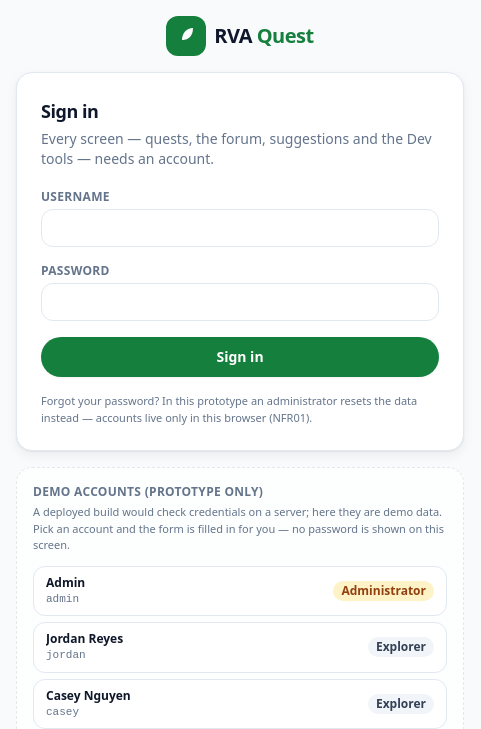
Test: LoginPage — the sign-in gate › refuses an empty form without touching the session
This screenshot has width=481, height=729.
Click the button "Sign in".
click(240, 357)  # box [41,337,439,377]
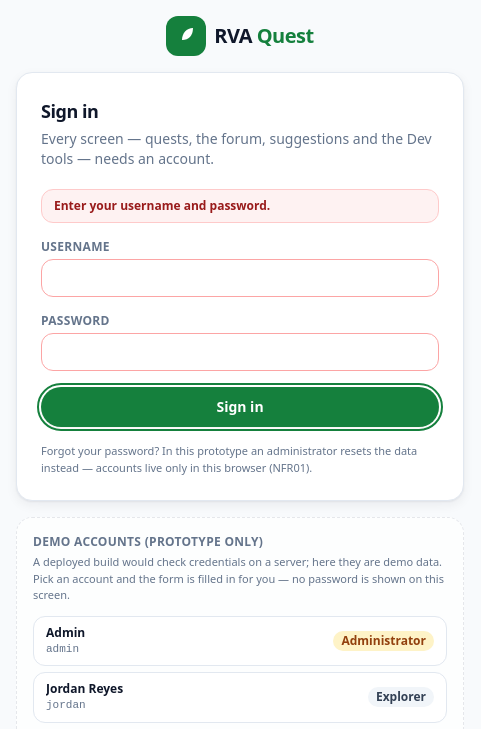
expect the message shows "Enter your username and password": met, box [54,197,270,214]
